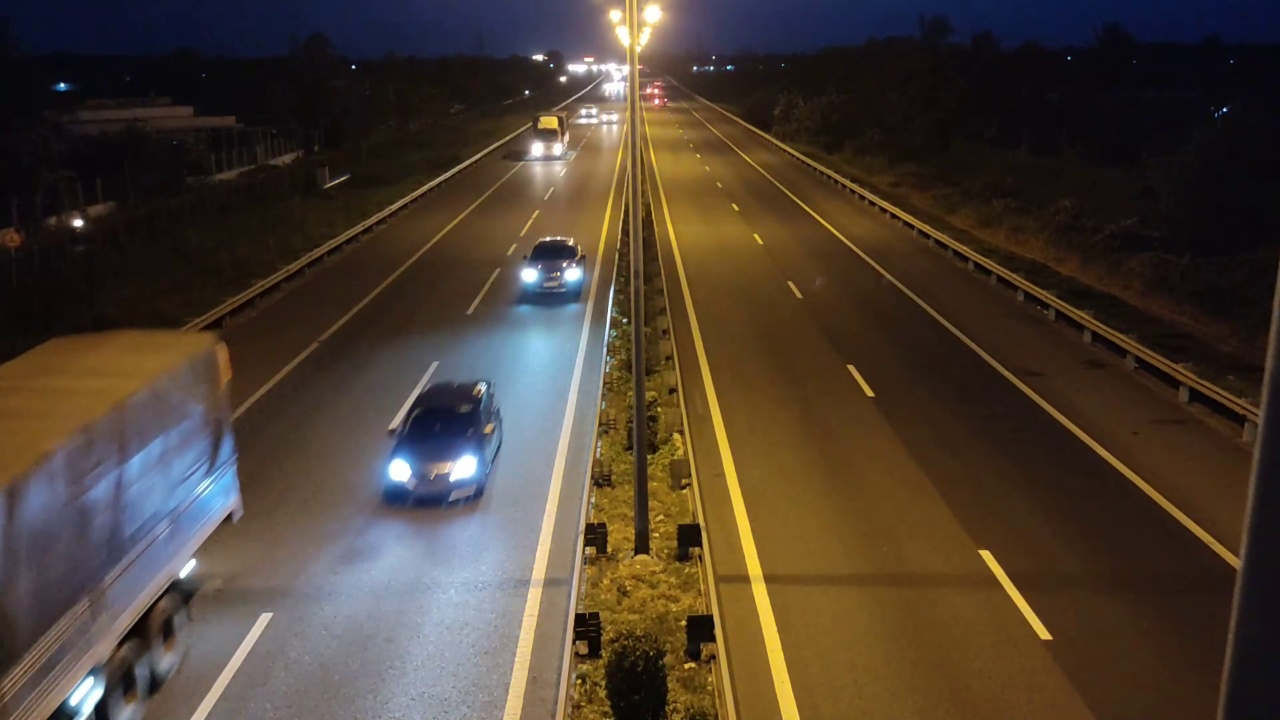car: (383, 377, 504, 509), (516, 235, 588, 303)
